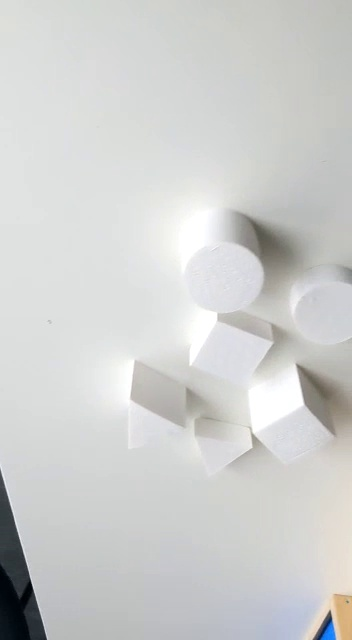Clyinder_short: (286, 261, 352, 350)
Cube: (242, 360, 342, 470)
Cube_short: (183, 306, 278, 395)
Cylinder: (175, 205, 267, 316)
Triangle: (115, 356, 192, 451)
Triangle_short: (186, 410, 255, 481)
